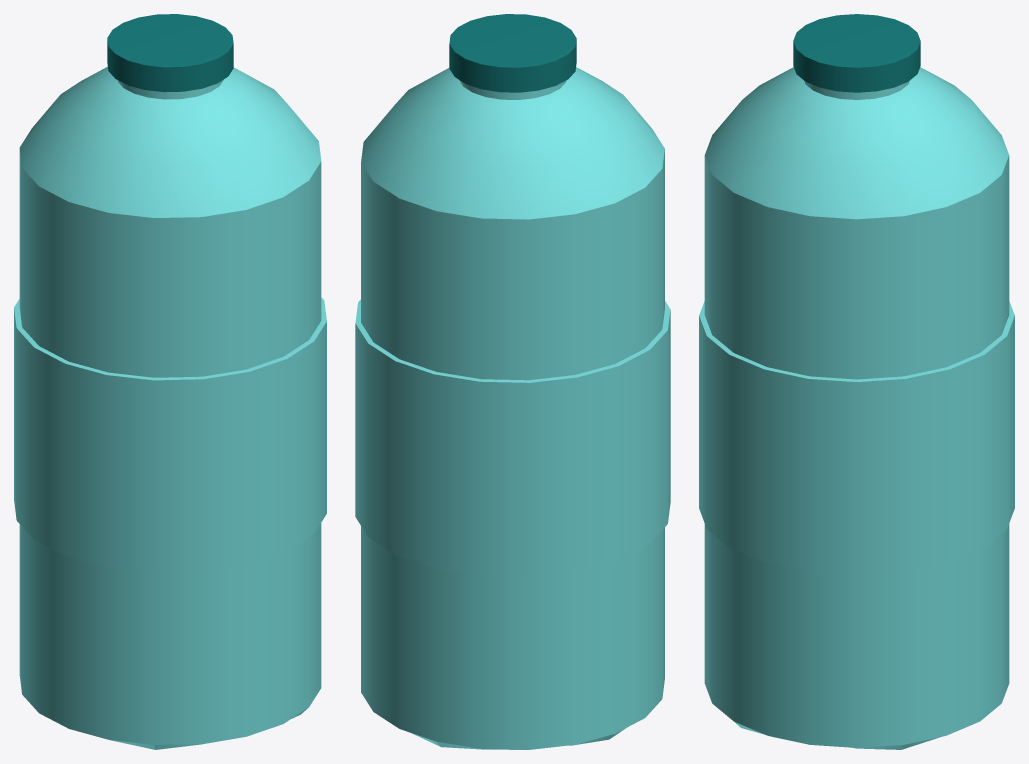
File: Bottle UV.fbx
The picture shows the model from 3 angles, left to right: view 1: azimuth 30°, elevation 25°; view 2: azimuth 150°, elevation 25°; view 3: azimuth 270°, elevation 25°; orthographic projection.
Visible parts, largest first — view 1: pCylinder2; view 2: pCylinder2; view 3: pCylinder2.
Boxes of the visible parts, x1,y1,x2,y2 form: pCylinder2: [14, 14, 326, 749]; pCylinder2: [355, 14, 670, 749]; pCylinder2: [699, 14, 1014, 749].
Bounding box in the file's own units: 49.76 × 114 × 49.76.
